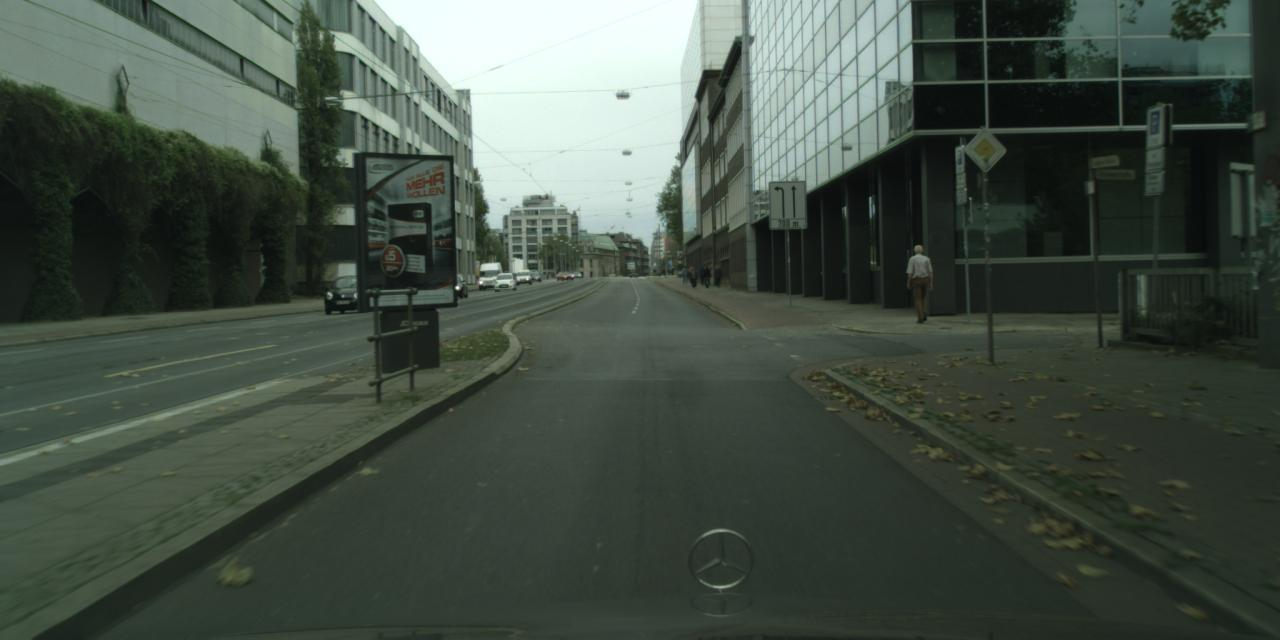ped: (905, 244, 936, 322), (682, 263, 711, 288), (712, 264, 722, 288)
